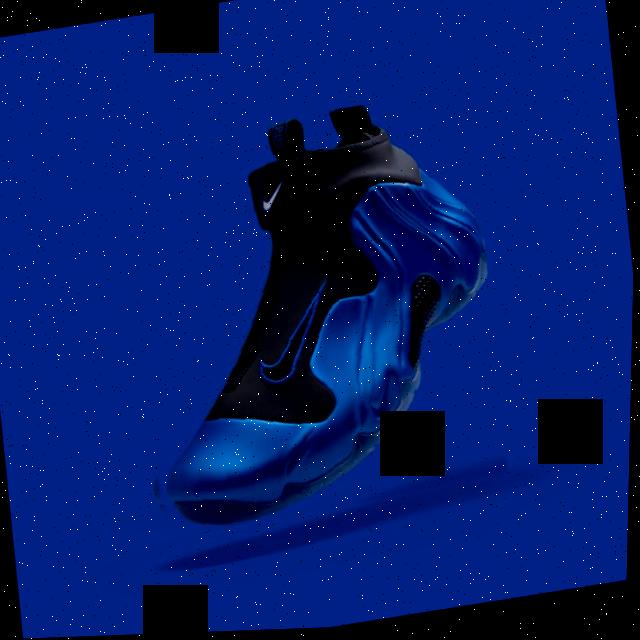shoe: (104, 90, 518, 546)
